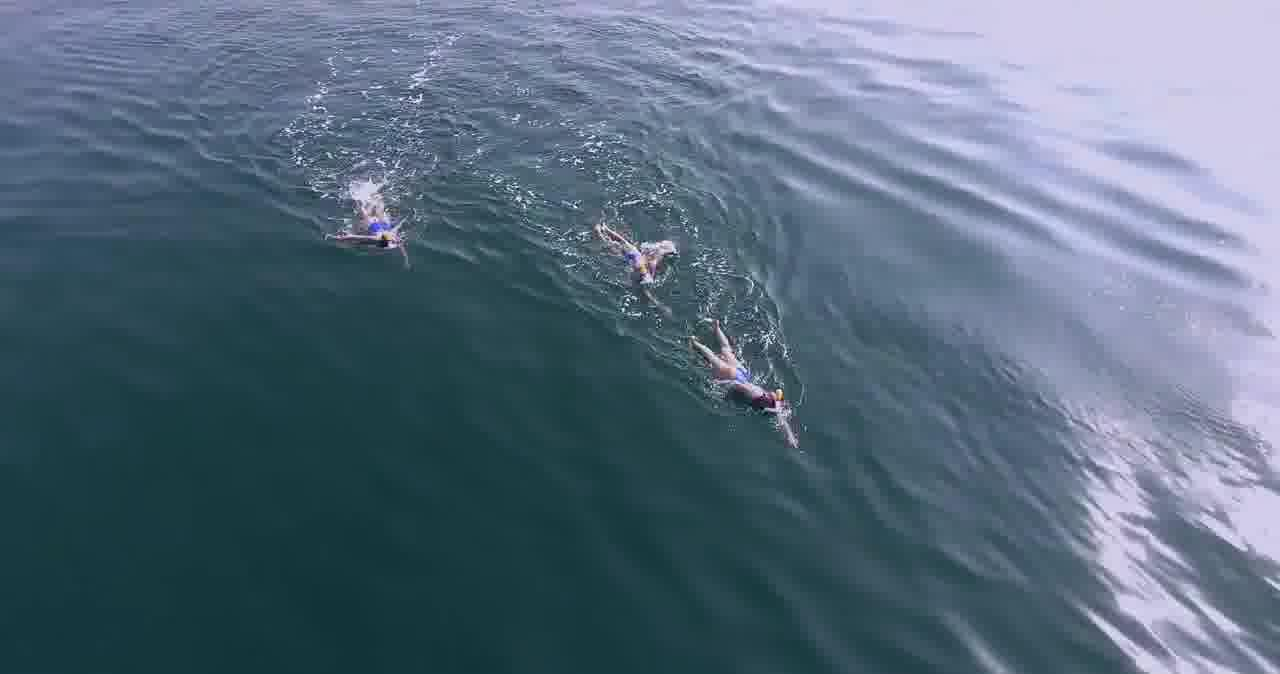human: (684, 322, 807, 449), (321, 208, 413, 268)
